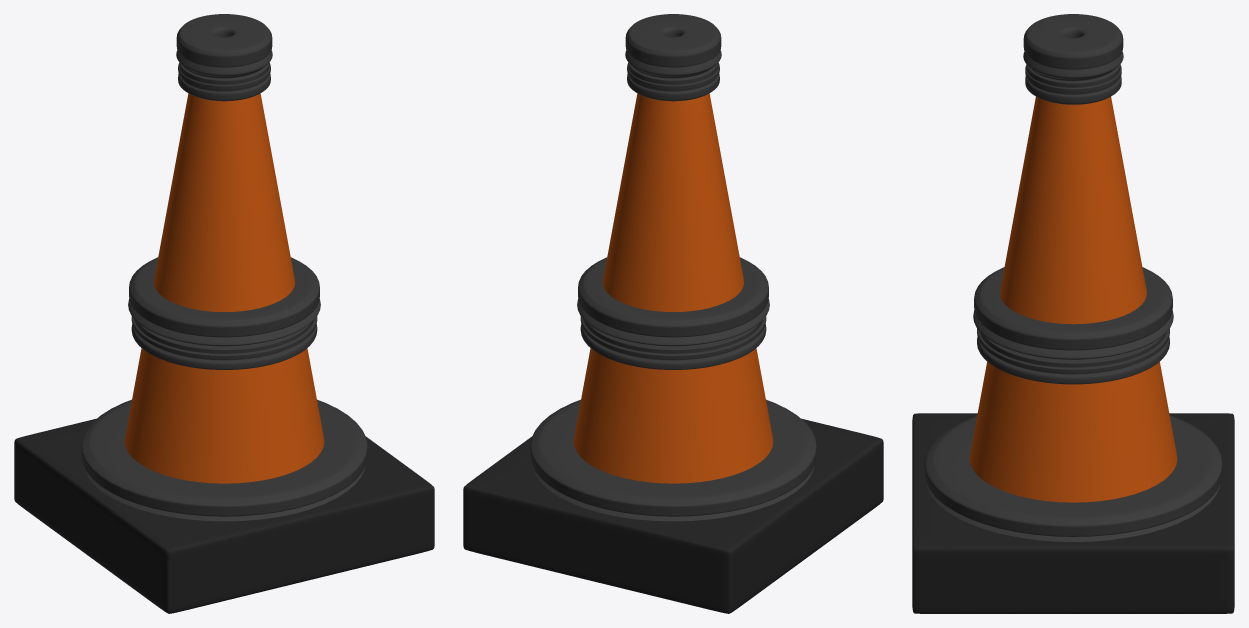
File: conebarrier.fbx
The picture shows the model from 3 angles, left to right: view 1: azimuth 30°, elevation 25°; view 2: azimuth 150°, elevation 25°; view 3: azimuth 270°, elevation 25°; orthographic projection. The views are drawn at different scales.
Visible parts, largest first — view 1: Cylinder, Cube, Cylinder.002, Cylinder.001, Cylinder.010; view 2: Cylinder, Cube, Cylinder.002, Cylinder.001, Cylinder.010; view 3: Cylinder, Cube, Cylinder.002, Cylinder.001, Cylinder.010.
Boxes of the visible parts, <box> form: Cylinder: <box>124,93,324,483</box>; Cube: <box>14,418,434,613</box>; Cylinder.002: <box>81,399,367,521</box>; Cylinder.001: <box>128,257,320,369</box>; Cylinder.010: <box>176,14,272,101</box>; Cylinder: <box>573,93,773,483</box>; Cube: <box>463,418,883,613</box>; Cylinder.002: <box>530,399,816,521</box>; Cylinder.001: <box>577,257,769,369</box>; Cylinder.010: <box>625,14,721,101</box>; Cylinder: <box>969,96,1177,502</box>; Cube: <box>912,413,1234,613</box>; Cylinder.002: <box>924,415,1222,541</box>; Cylinder.001: <box>973,267,1173,384</box>; Cylinder.010: <box>1023,14,1123,104</box>.
Bounding box in the file's own units: 272 × 479 × 272.
